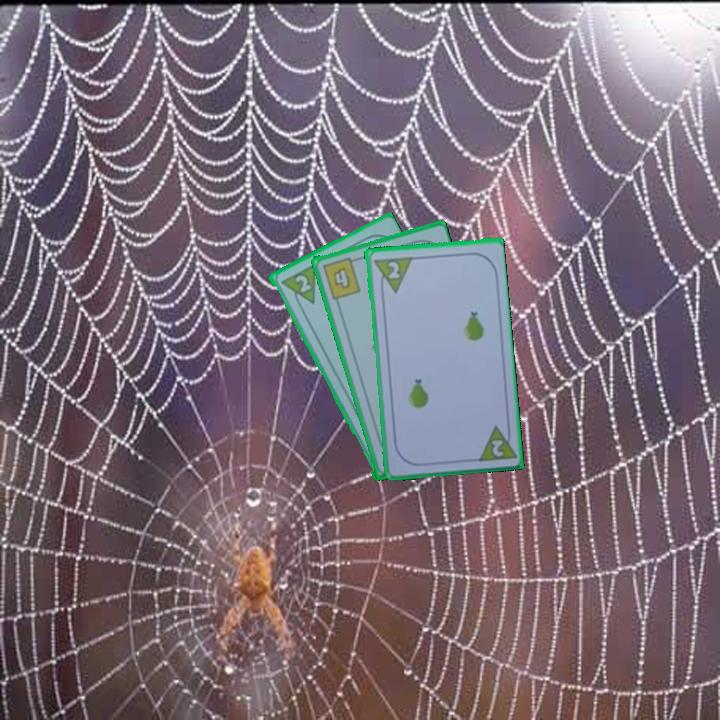2p: (473, 420, 518, 464), (291, 271, 314, 295), (384, 257, 402, 282)
4b: (319, 253, 363, 302)
